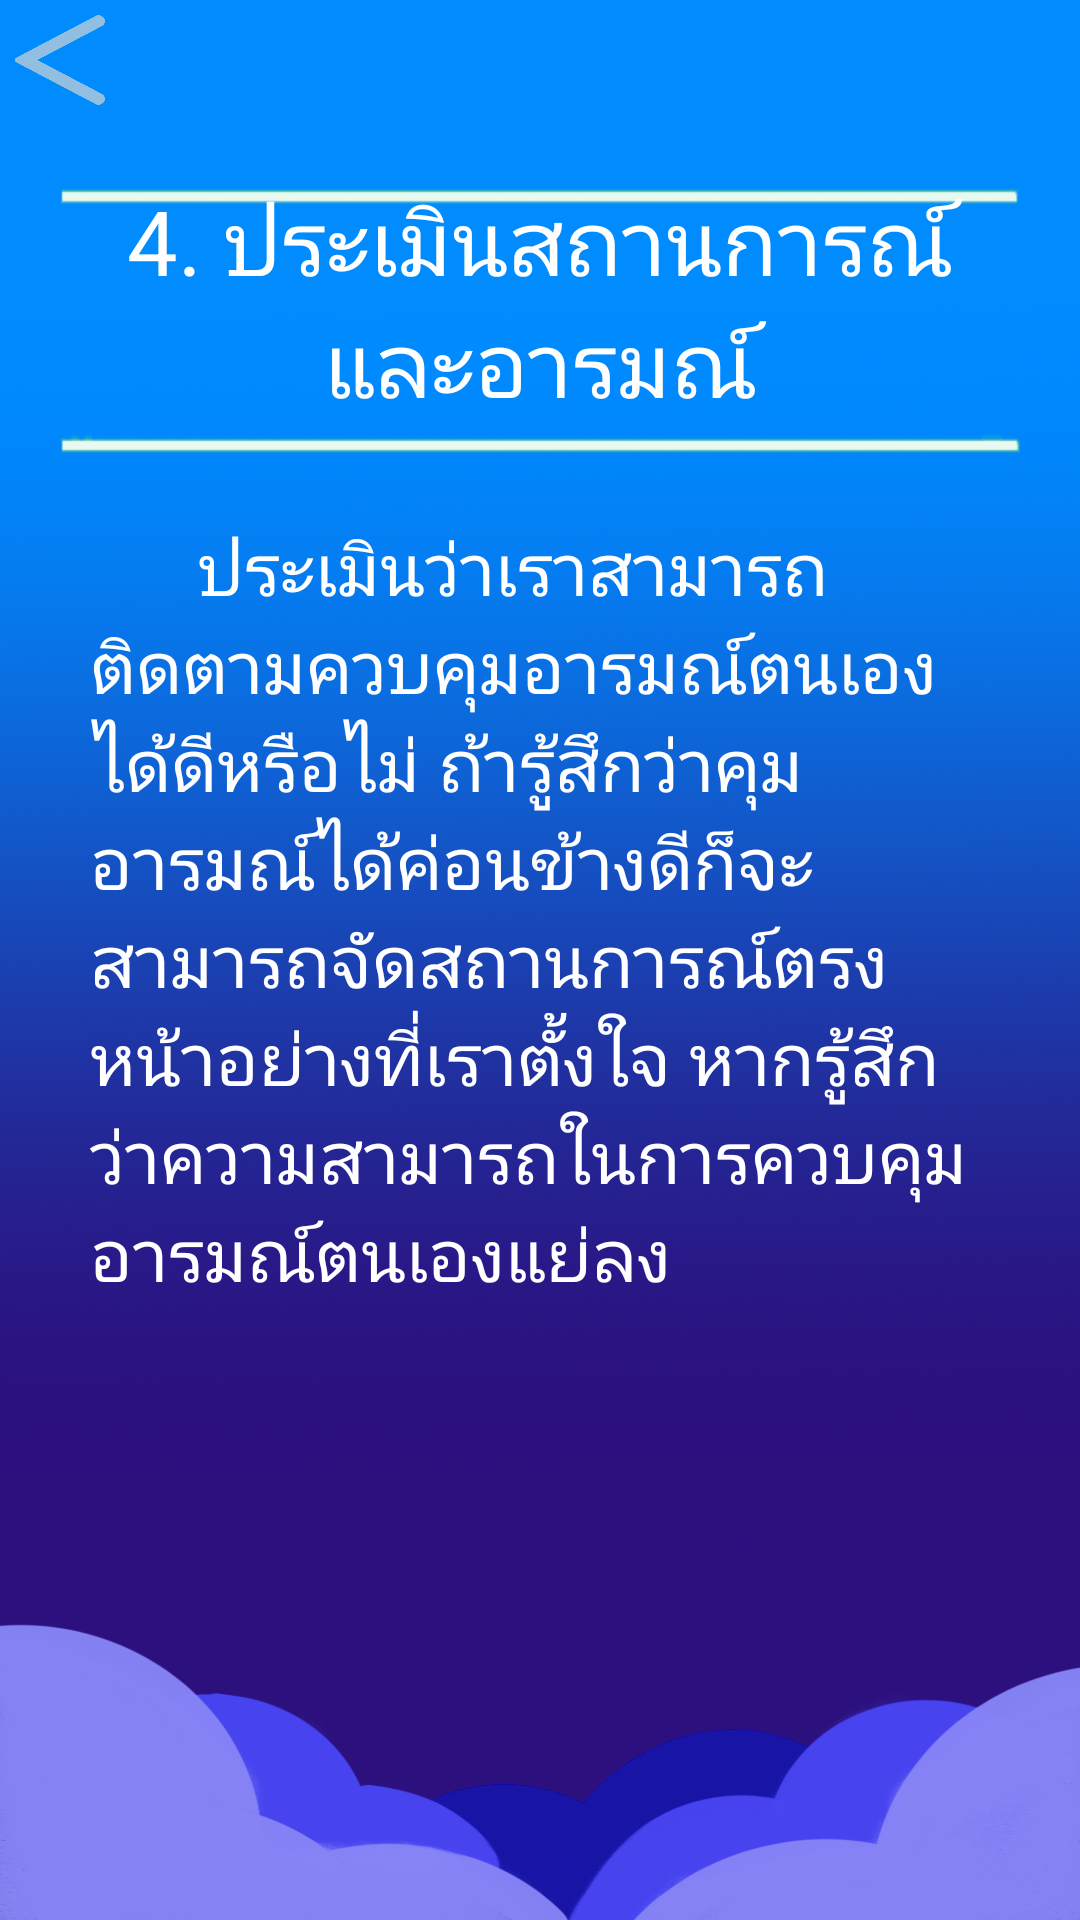

Icons on this 1080px x 1920px Android screen, each with its box as (x1, y1, x2, y2):
backbut: (15, 15, 105, 105)
